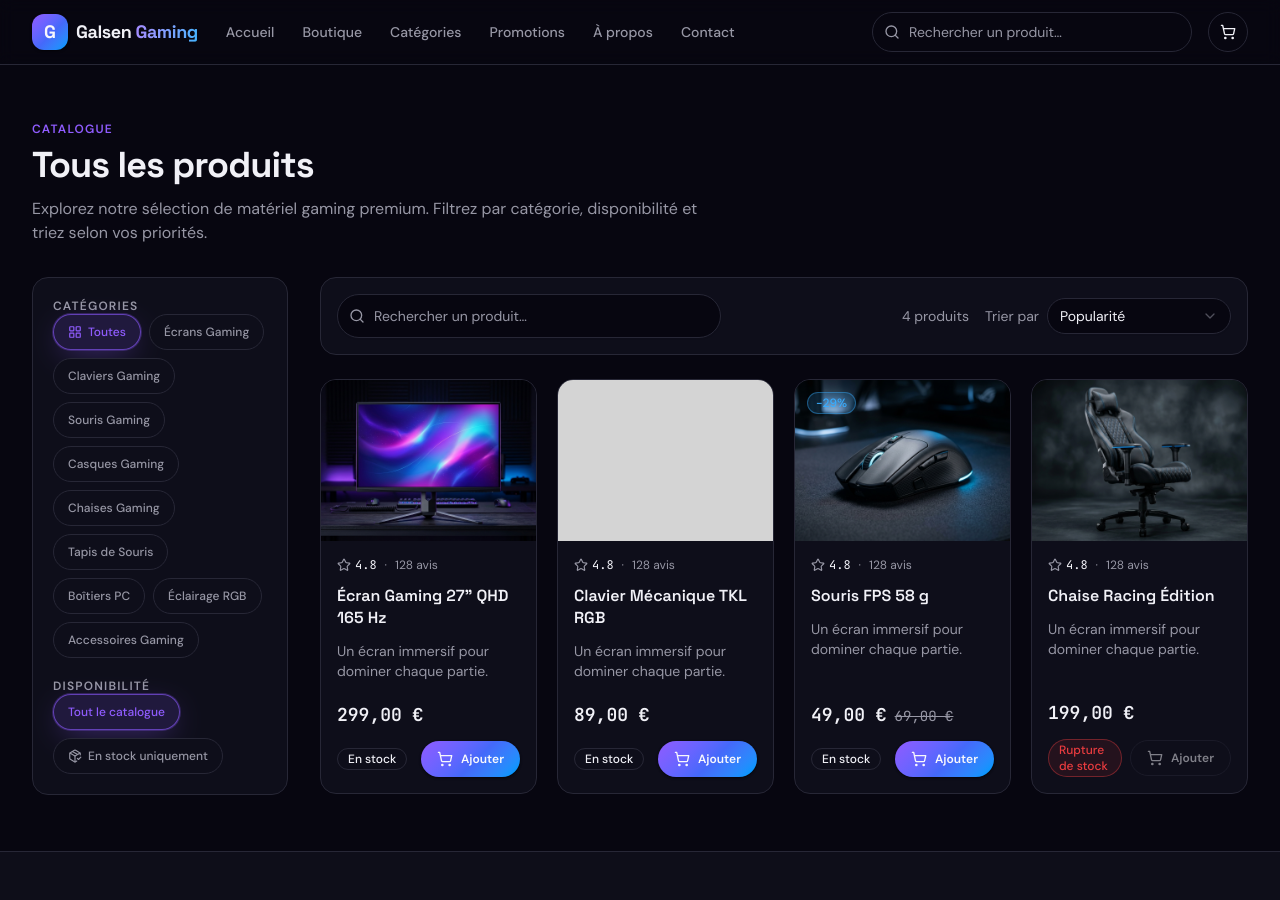
ShopPage › searches products and reflects the query in the URL
expect the link "Écran Gaming 27\" QHD 165 Hz" is shown: met, box [337, 585, 508, 628]
Type "clavier" into the search field with placeholder "Rechercher un produit…" in the row of "4 produits".
click(529, 316); type("clavier")  # box [337, 294, 721, 338]
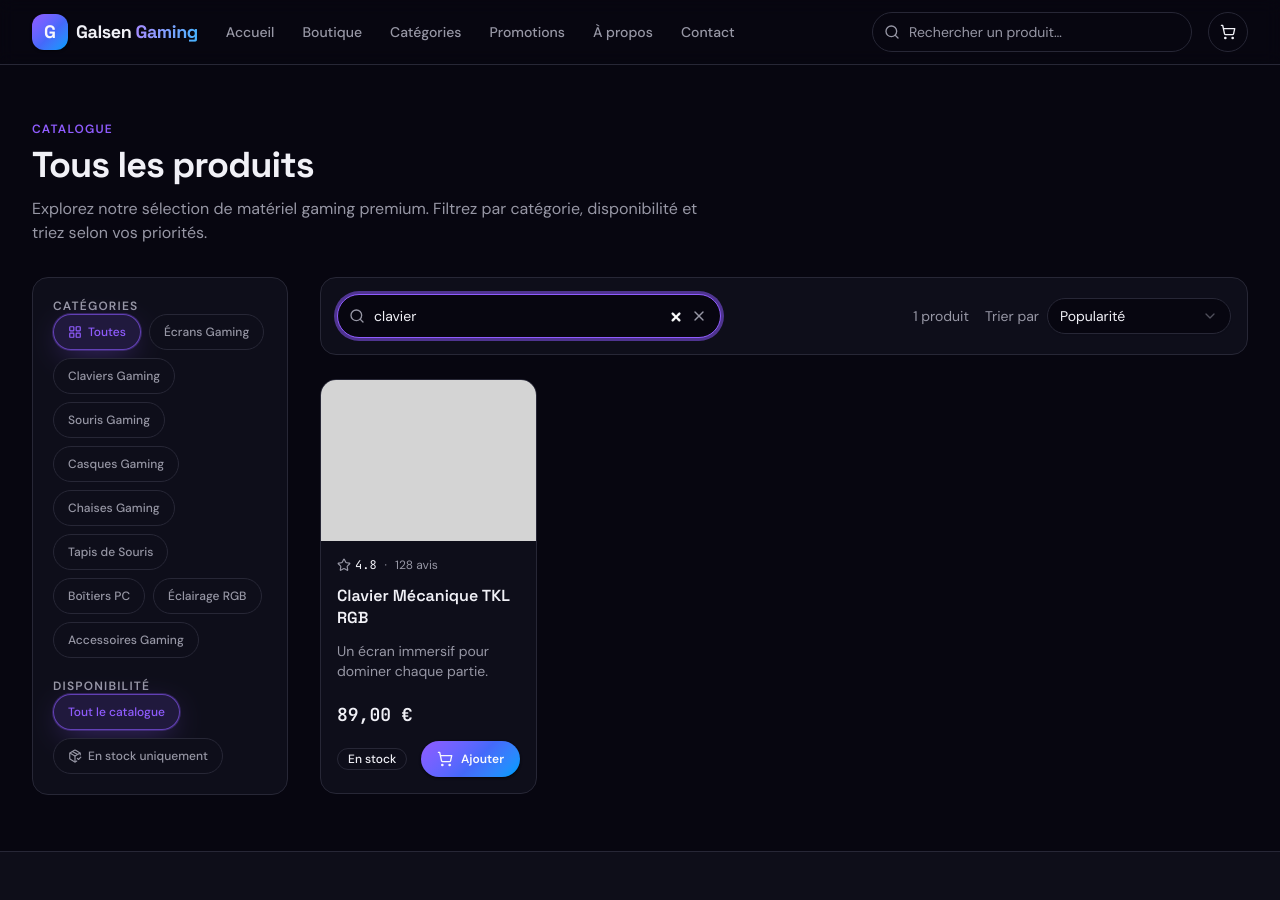
expect the link "Clavier Mécanique TKL RGB" is shown: met, box [337, 585, 509, 628]
expect the link "Écran Gaming 27\" QHD 165 Hz" is gone: met
